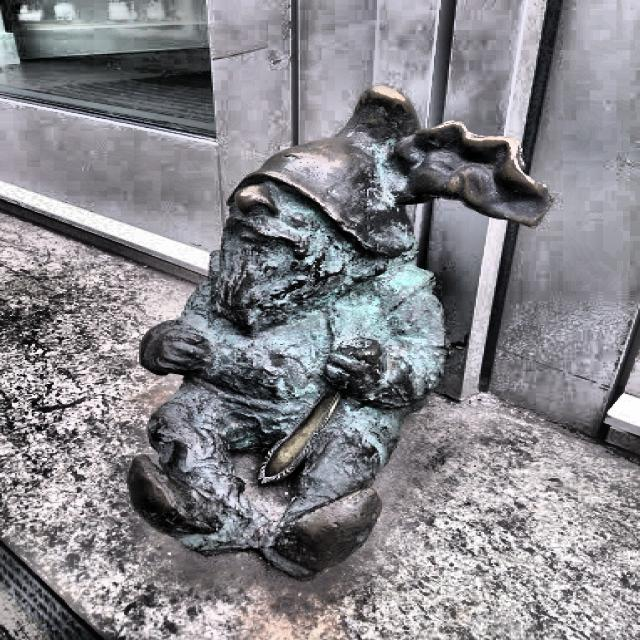Pieroznik: (129, 87, 553, 581)
